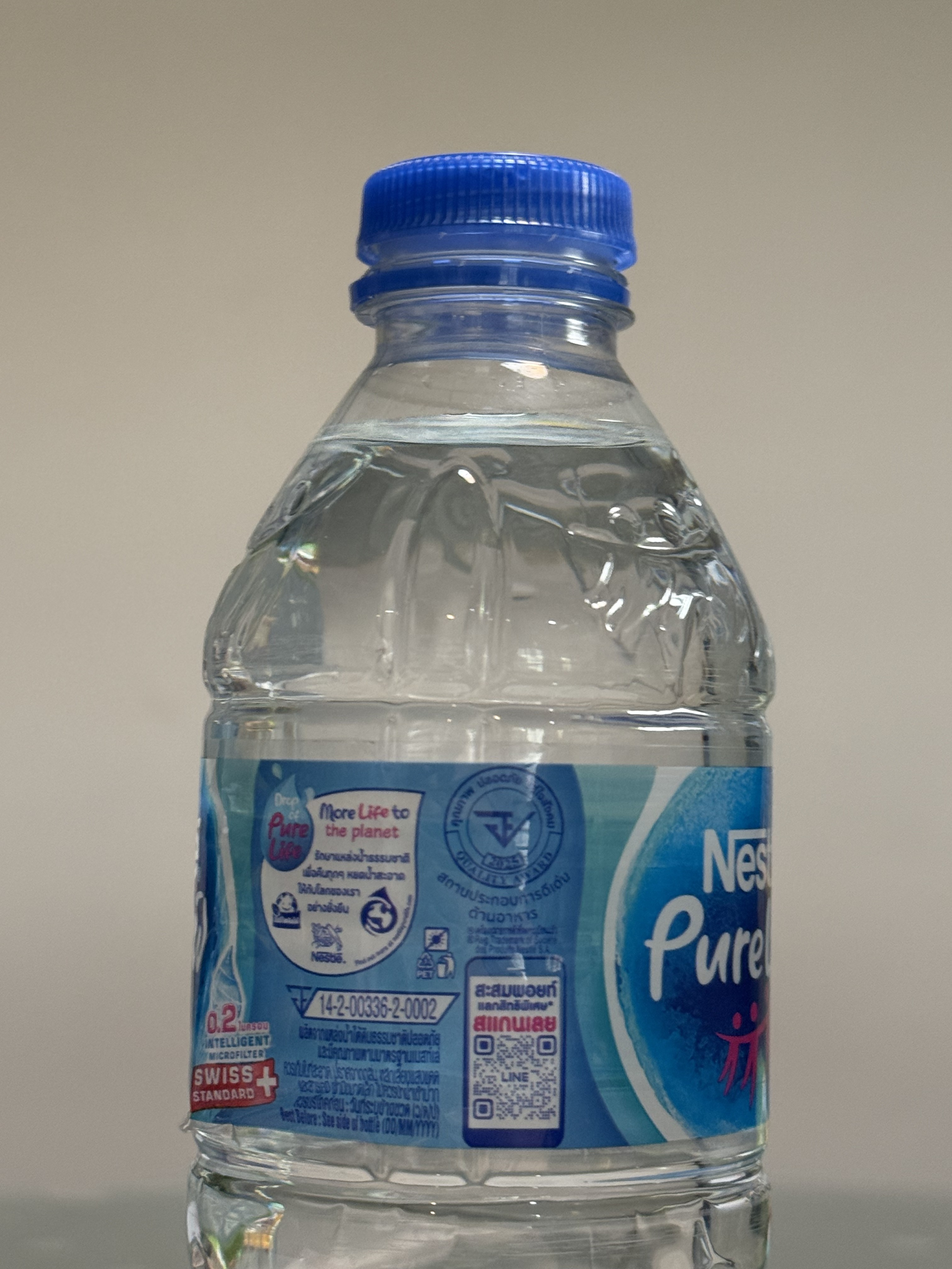half_cap: (341, 144, 643, 324)
